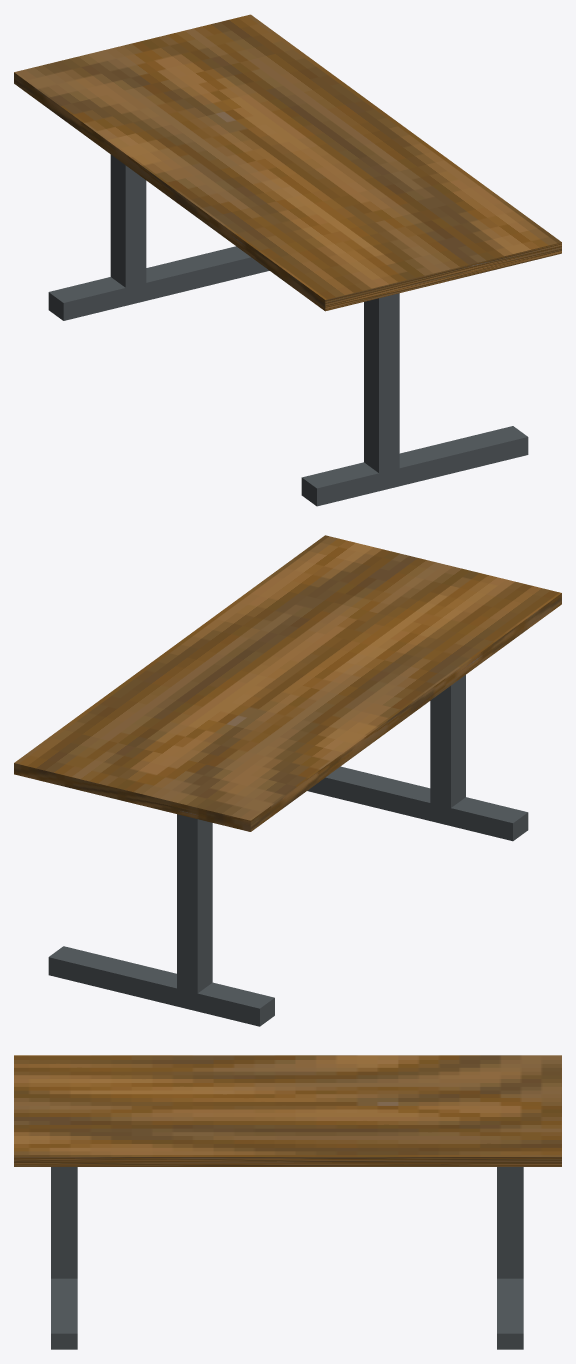
The model's file is work_desk.glb.
3 views of the same model, one above another, from view 1: azimuth 30°, elevation 25°; view 2: azimuth 150°, elevation 25°; view 3: azimuth 270°, elevation 25° (orthographic). The views are drawn at different scales.
Visible parts, largest first — view 1: Cube.002, Cube, Cube.001; view 2: Cube.002, Cube.001, Cube; view 3: Cube.002, Cube, Cube.001.
Part boxes in pixels (x1,y1,x2,y2): Cube.002: (14, 14, 561, 311); Cube: (301, 293, 528, 506); Cube.001: (48, 154, 269, 320); Cube.002: (14, 535, 561, 831); Cube.001: (48, 814, 274, 1026); Cube: (307, 675, 528, 841); Cube.002: (14, 1055, 561, 1166); Cube: (51, 1167, 77, 1349); Cube.001: (497, 1167, 523, 1349).
Size of the model in its own units: 2.42 by 2.2 by 5.51.
2 materials, 1 textured.
